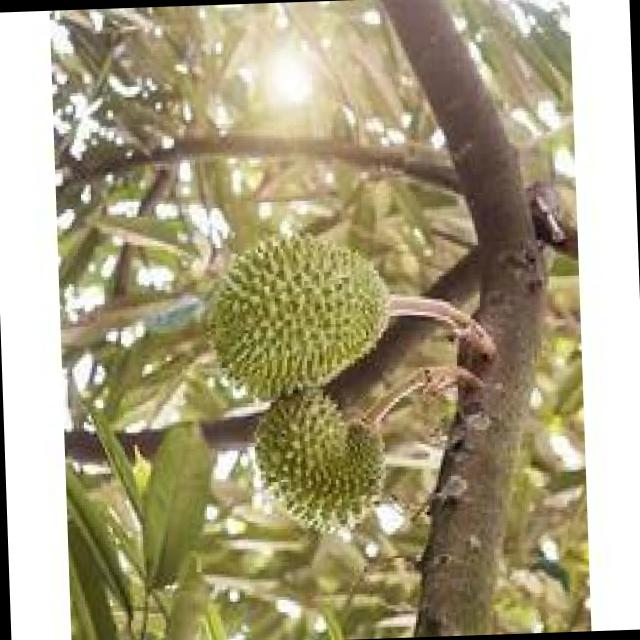fruit: (174, 206, 410, 414), (230, 370, 408, 560)
